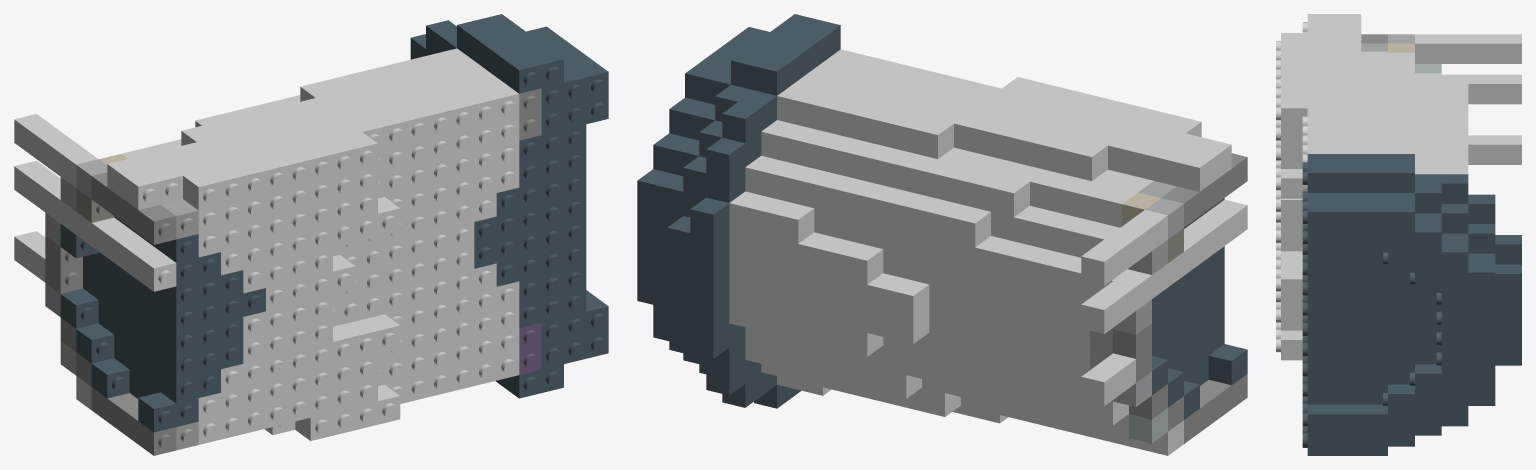
Rendered from full.glb.
3 views of the same model, side by side, from view 1: azimuth 30°, elevation 25°; view 2: azimuth 150°, elevation 25°; view 3: azimuth 270°, elevation 25° (orthographic). The views are drawn at different scales.
Parts seen in each view (by area): view 1: world; view 2: world; view 3: world.
Boxes of the visible parts, left/top/right/bottom form: world: left=14, top=14, right=608, bottom=455; world: left=637, top=14, right=1247, bottom=455; world: left=1276, top=14, right=1521, bottom=455.
Bounding box in the file's own units: 168 × 112 × 88.2.
